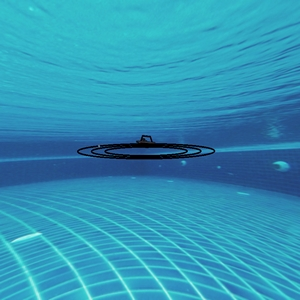circle: (75, 125, 221, 178)
